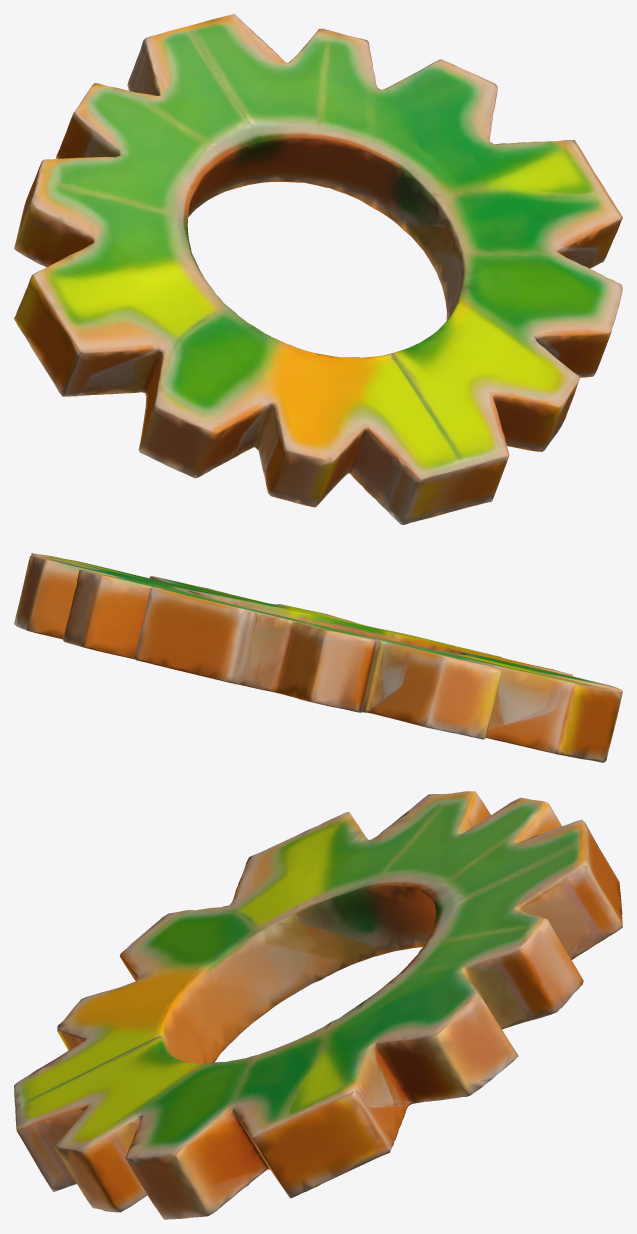
Rendered from crear3D.glb.
3 views of the same model, one above another, from view 1: azimuth 30°, elevation 25°; view 2: azimuth 150°, elevation 25°; view 3: azimuth 270°, elevation 25° (orthographic). The views are drawn at different scales.
Bounding box in the file's own units: 2.01 × 1.08 × 1.83.
Materials: 1 (1 with a texture image).
